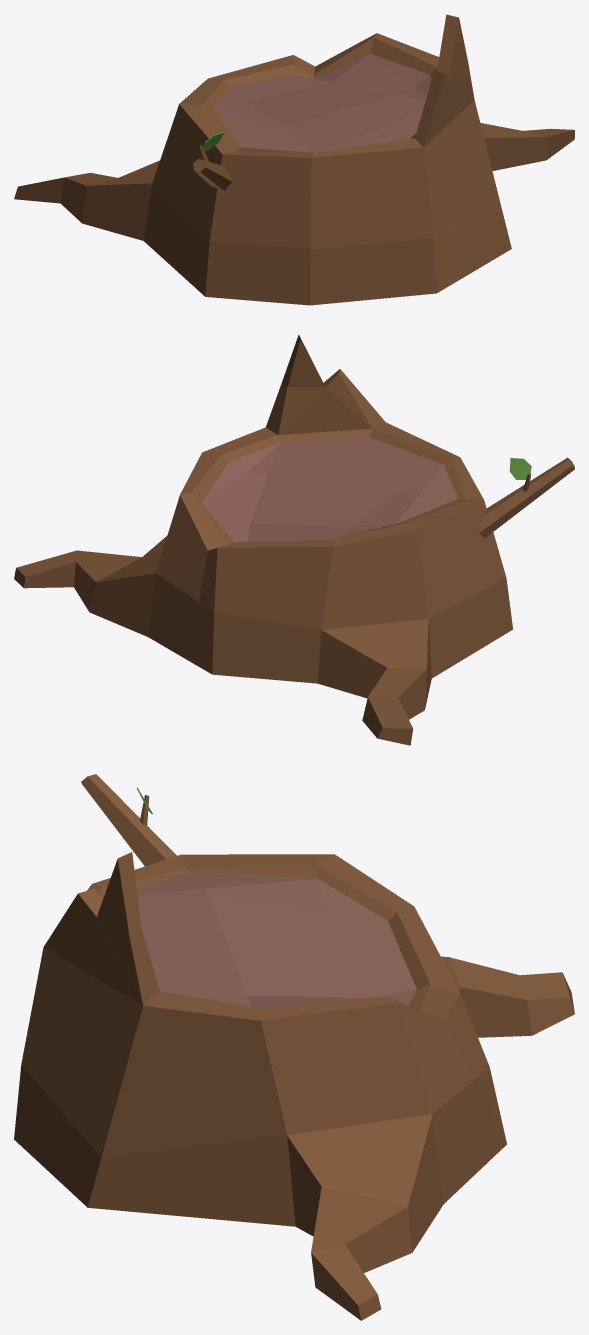
The model's file is TreeStump.glb.
The picture shows the model from 3 angles, top to bottom: view 1: azimuth 30°, elevation 25°; view 2: azimuth 150°, elevation 25°; view 3: azimuth 270°, elevation 25°; orthographic projection. The views are drawn at different scales.
Visible parts, largest first — view 1: TreeStump; view 2: TreeStump; view 3: TreeStump.
Boxes of the visible parts, box(x1,y1,x2,y2) form: TreeStump: box(14, 14, 574, 305); TreeStump: box(14, 334, 574, 745); TreeStump: box(14, 774, 574, 1320).
Bounding box in the file's own units: 1.09 × 0.5096 × 0.7924.
